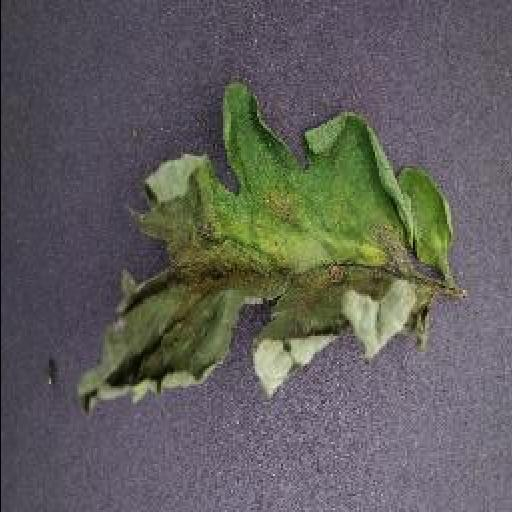disease_tomato: (72, 81, 458, 415)
